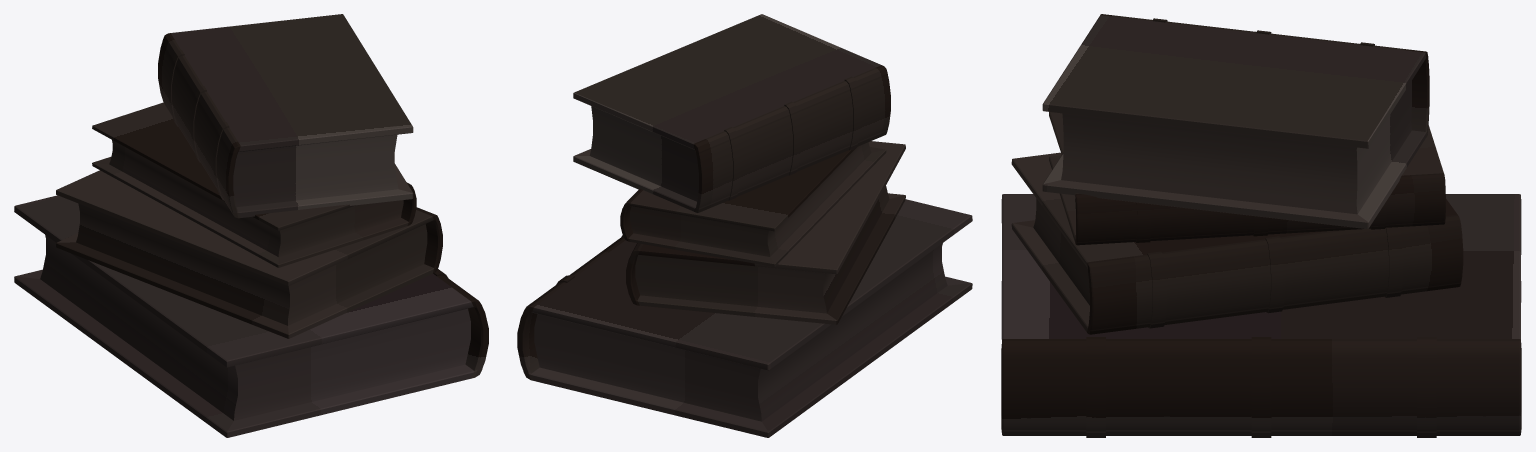
The model's file is medieval_book_stack.glb.
3 views of the same model, side by side, from view 1: azimuth 30°, elevation 25°; view 2: azimuth 150°, elevation 25°; view 3: azimuth 270°, elevation 25° (orthographic). The views are drawn at different scales.
Visible parts, largest first — view 1: book1_low1_books_0; view 2: book1_low1_books_0; view 3: book1_low1_books_0.
Part boxes in pixels (x1=…): book1_low1_books_0: x1=14, y1=14, x2=488, y2=437; book1_low1_books_0: x1=517, y1=14, x2=972, y2=437; book1_low1_books_0: x1=1001, y1=14, x2=1521, y2=437.
Bounding box in the file's own units: 31.39 × 26.96 × 41.25.
Materials: 1 (1 with a texture image).
